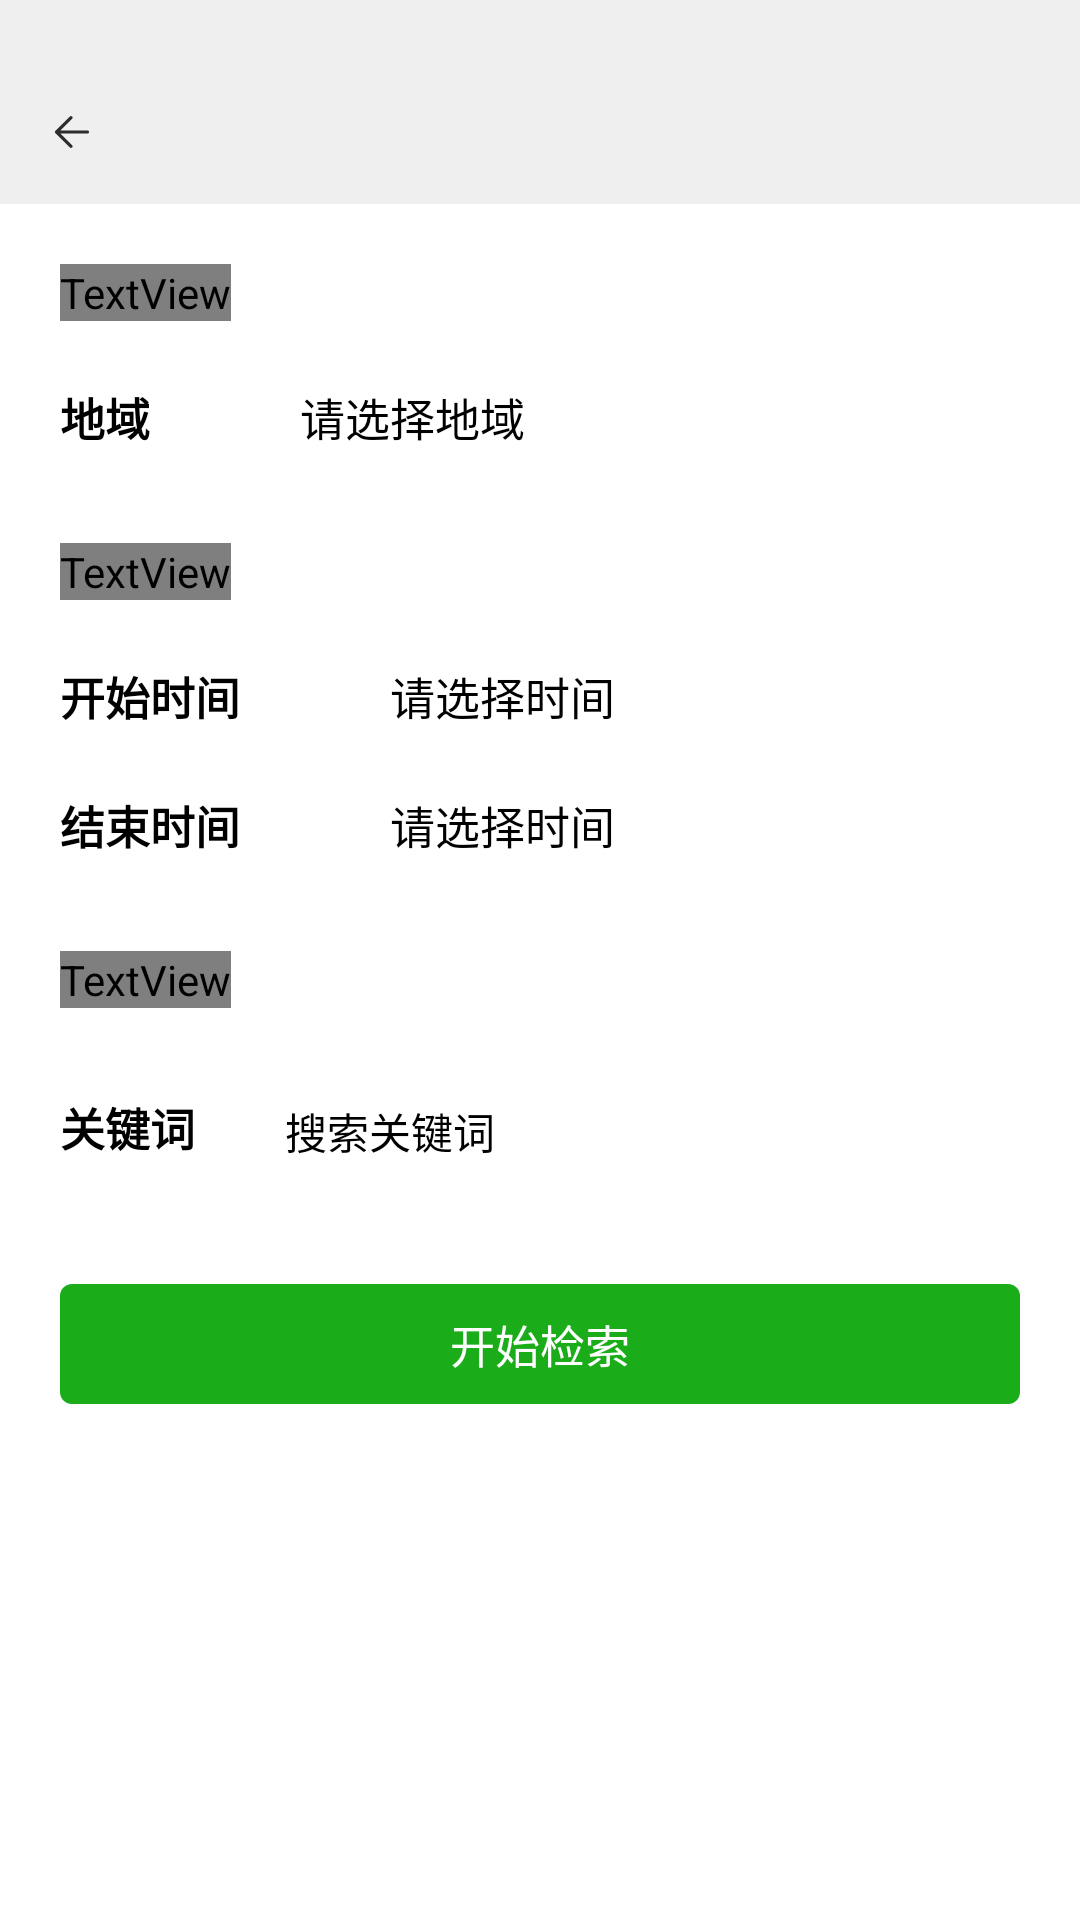

Icons on this 1080 x 1920 Android screen, each with its box as Rect(x1, y1, x2, y2):
back: Rect(55, 116, 89, 148)
